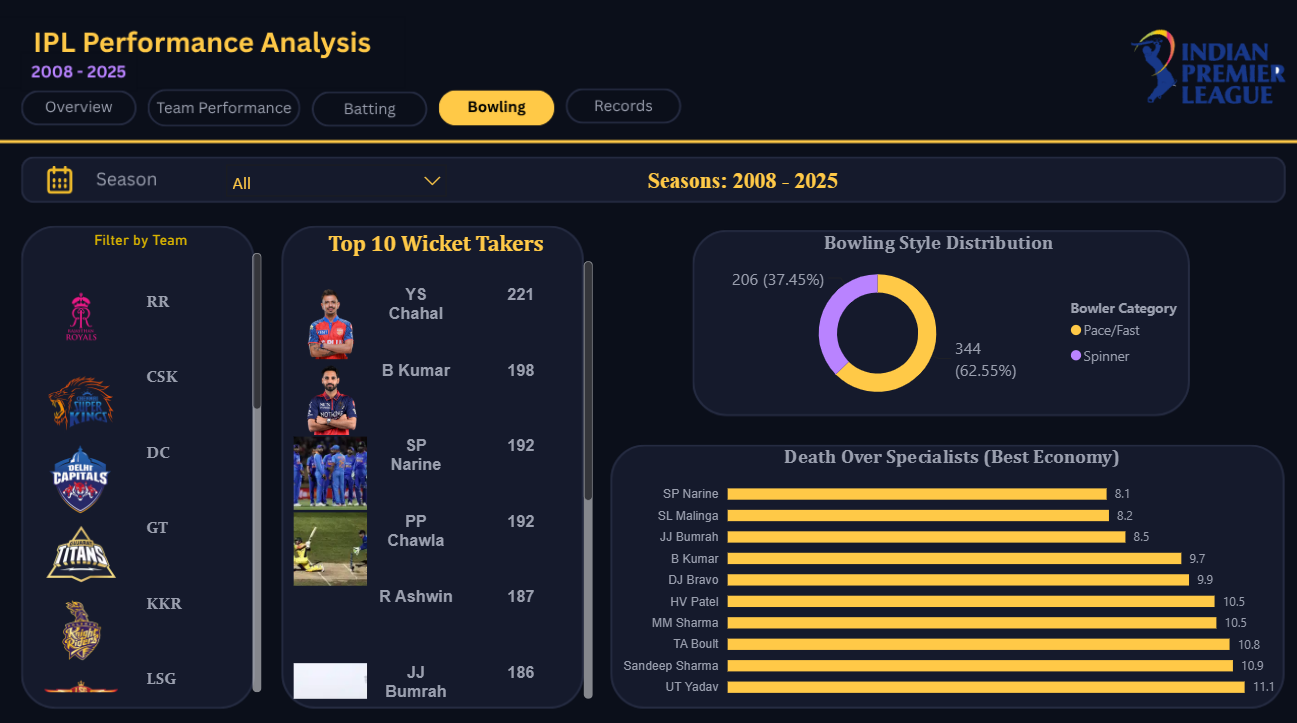

This screenshot's page, from the dashboard's own definition file:
{"tool":"powerbi","page":{"name":"Bowling","canvas":[1280,720],"ordinal":3},"visuals":[{"type":"tableEx","title":"Top 10 Wicket Takers","fields":{"Values":["ipl_players_clean.player_image","ipl_players_clean.player_name","_Measures.Total Wickets by Player"]},"box":[274.8,230.7,308,458.9],"z":0},{"type":"donutChart","title":"Bowling Style Distribution","fields":{"Y":["_Measures.Distinct Bowlers by Type"],"Category":["ipl_deliveries_clean.Bowler Category"]},"box":[668.7,230.7,506.8,179.1],"z":1000},{"type":"clusteredBarChart","title":"Death Over Specialists (Best Economy)","fields":{"Category":["ipl_deliveries_clean.bowler"],"Y":["_Measures.Death Overs Economy"]},"box":[602.5,440.5,666.3,257.7],"z":2000},{"type":"tableEx","title":"Filter by Team","fields":{"Values":["ipl_teams_clean.image_url","ipl_teams_clean.team_name_short"]},"box":[20.9,230.7,236.8,452.8],"z":3000},{"type":"slicer","fields":{"Values":["ipl_matches_clean.season"]},"box":[218.4,161,225.8,39],"z":4000},{"type":"cardVisual","fields":{"Data":["_Measures.Season Range"]},"box":[581.6,160.7,292,46.6],"z":5000},{"type":"image","box":[1108,28.2,158.3,81],"z":6000},{"type":"actionButton","box":[148.5,85.9,135,39.3],"z":7000},{"type":"actionButton","box":[27,89.6,105.5,36.8],"z":8000},{"type":"actionButton","box":[308,89.6,110.4,39.3],"z":9000},{"type":"actionButton","box":[557.1,85.9,110.4,39.3],"z":10000}]}

Visuals, with their boxes in screenshot pixels (x1, y1, x2, y2), scaled from the page's 1280x720 canvas onto the 1297x723 screenshot:
"Top 10 Wicket Takers" tableEx: bbox=(278, 232, 591, 692)
"Bowling Style Distribution" donutChart: bbox=(678, 232, 1191, 412)
"Death Over Specialists (Best Economy)" clusteredBarChart: bbox=(611, 442, 1286, 701)
"Filter by Team" tableEx: bbox=(21, 232, 261, 686)
slicer - ipl_matches_clean.season: bbox=(221, 162, 450, 201)
cardVisual - _Measures.Season Range: bbox=(589, 161, 885, 208)
image: bbox=(1123, 28, 1283, 110)
actionButton: bbox=(150, 86, 287, 126)
actionButton: bbox=(27, 90, 134, 127)
actionButton: bbox=(312, 90, 424, 129)
actionButton: bbox=(564, 86, 676, 126)
